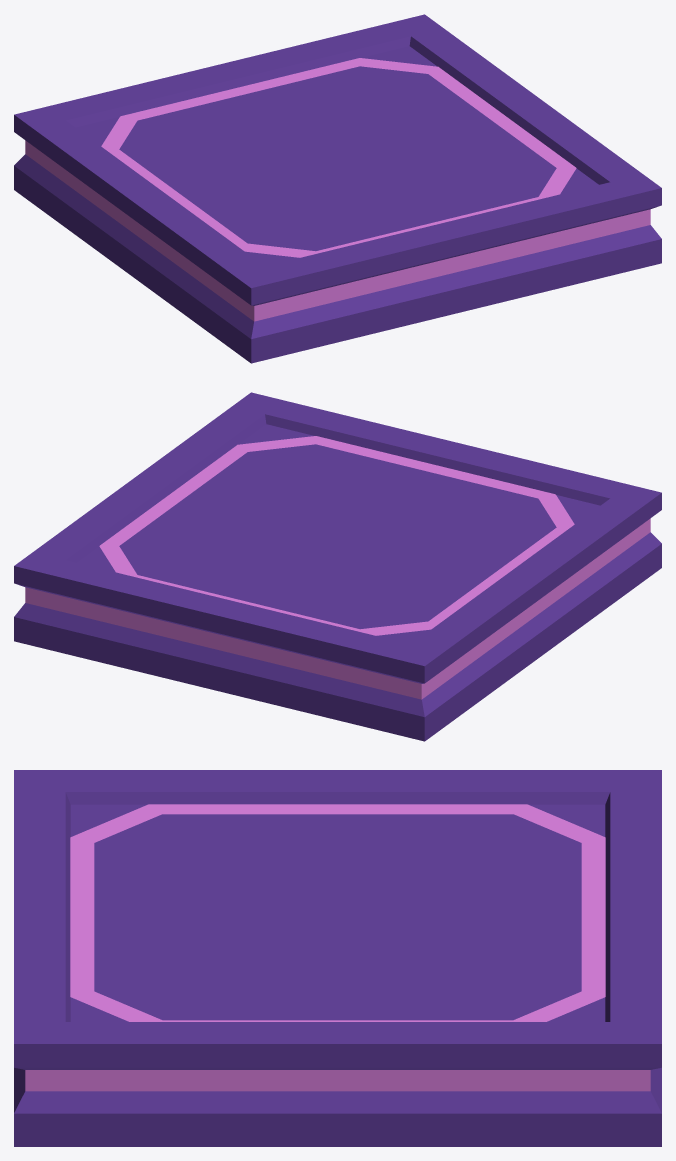
The model's file is Floor_platform_1.fbx.
3 views of the same model, one above another, from view 1: azimuth 30°, elevation 25°; view 2: azimuth 150°, elevation 25°; view 3: azimuth 270°, elevation 25° (orthographic). The views are drawn at different scales.
Parts seen in each view (by area): view 1: Floor_platform_1; view 2: Floor_platform_1; view 3: Floor_platform_1.
Part boxes in pixels (x1,y1,x2,y2): Floor_platform_1: [14, 14, 661, 363]; Floor_platform_1: [14, 392, 661, 741]; Floor_platform_1: [14, 770, 661, 1146].
Size of the model in its own units: 205 by 35.85 by 205.
